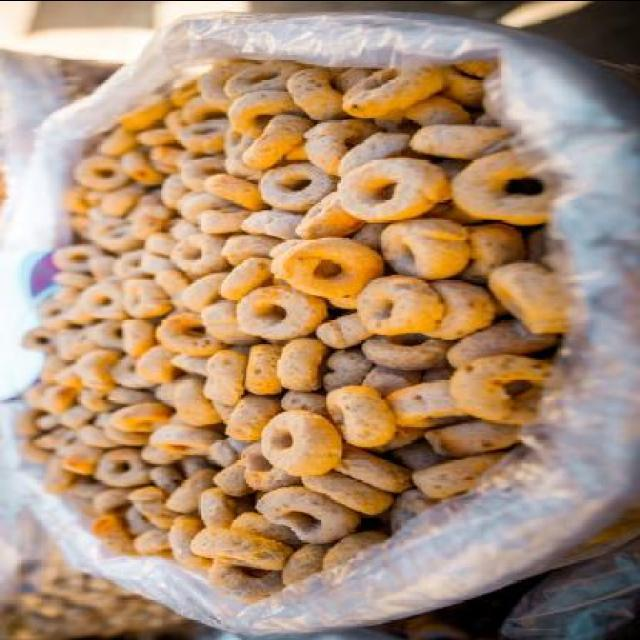Taralli: (21, 47, 528, 593)
